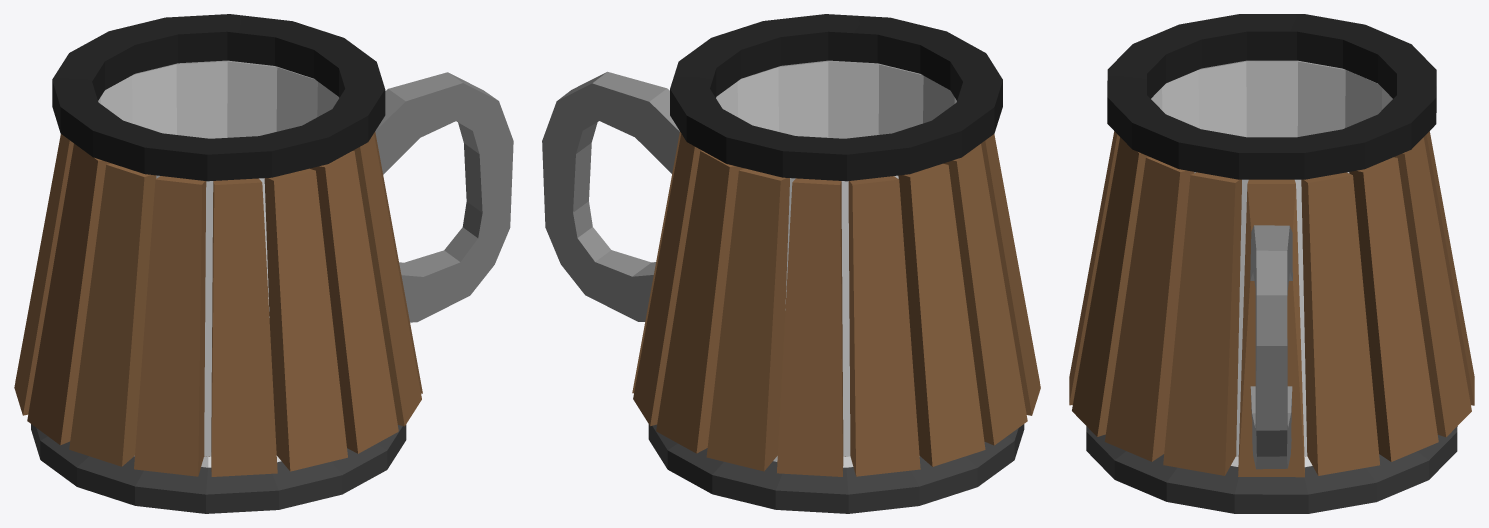
Rendered from beermug.fbx.
3 views of the same model, side by side, from view 1: azimuth 30°, elevation 25°; view 2: azimuth 150°, elevation 25°; view 3: azimuth 270°, elevation 25° (orthographic).
Visible parts, largest first — view 1: ale; view 2: ale; view 3: ale.
Part boxes in pixels (box(x1,y1,x2,y2)): ale: box(14, 14, 513, 513); ale: box(542, 14, 1040, 513); ale: box(1069, 14, 1474, 513).
Size of the model in its own units: 0.2405 by 0.1819 by 0.1742.
1 material, 1 textured.
